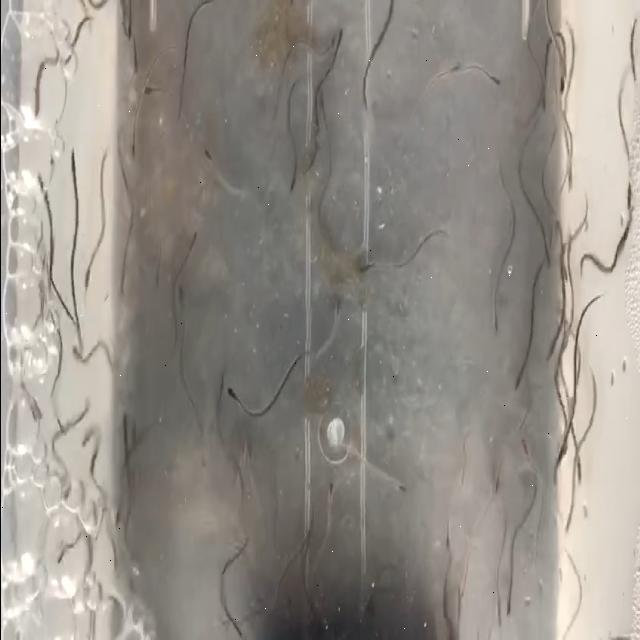active_glass_eel: (32, 168, 56, 212), (542, 322, 560, 368), (198, 136, 218, 176), (454, 564, 470, 613), (148, 250, 166, 292), (487, 56, 505, 96), (484, 294, 500, 338), (442, 518, 458, 562), (125, 0, 138, 54), (387, 470, 412, 498), (550, 449, 566, 492), (42, 145, 59, 185), (512, 436, 534, 466), (118, 409, 134, 450), (556, 51, 570, 97), (330, 289, 344, 335), (130, 33, 142, 85), (492, 452, 506, 496), (288, 156, 302, 200), (62, 144, 80, 178), (502, 572, 514, 622), (222, 384, 242, 412), (114, 268, 128, 308), (562, 159, 574, 205), (356, 256, 377, 282), (512, 358, 528, 392), (560, 320, 574, 358), (332, 21, 347, 54), (620, 180, 633, 218), (127, 130, 140, 167), (558, 508, 572, 542), (575, 449, 587, 487), (175, 276, 187, 314), (319, 478, 335, 506), (140, 82, 162, 102), (80, 271, 92, 306), (184, 230, 198, 258), (447, 56, 463, 80), (492, 600, 504, 632), (542, 236, 552, 272), (32, 86, 40, 130)
